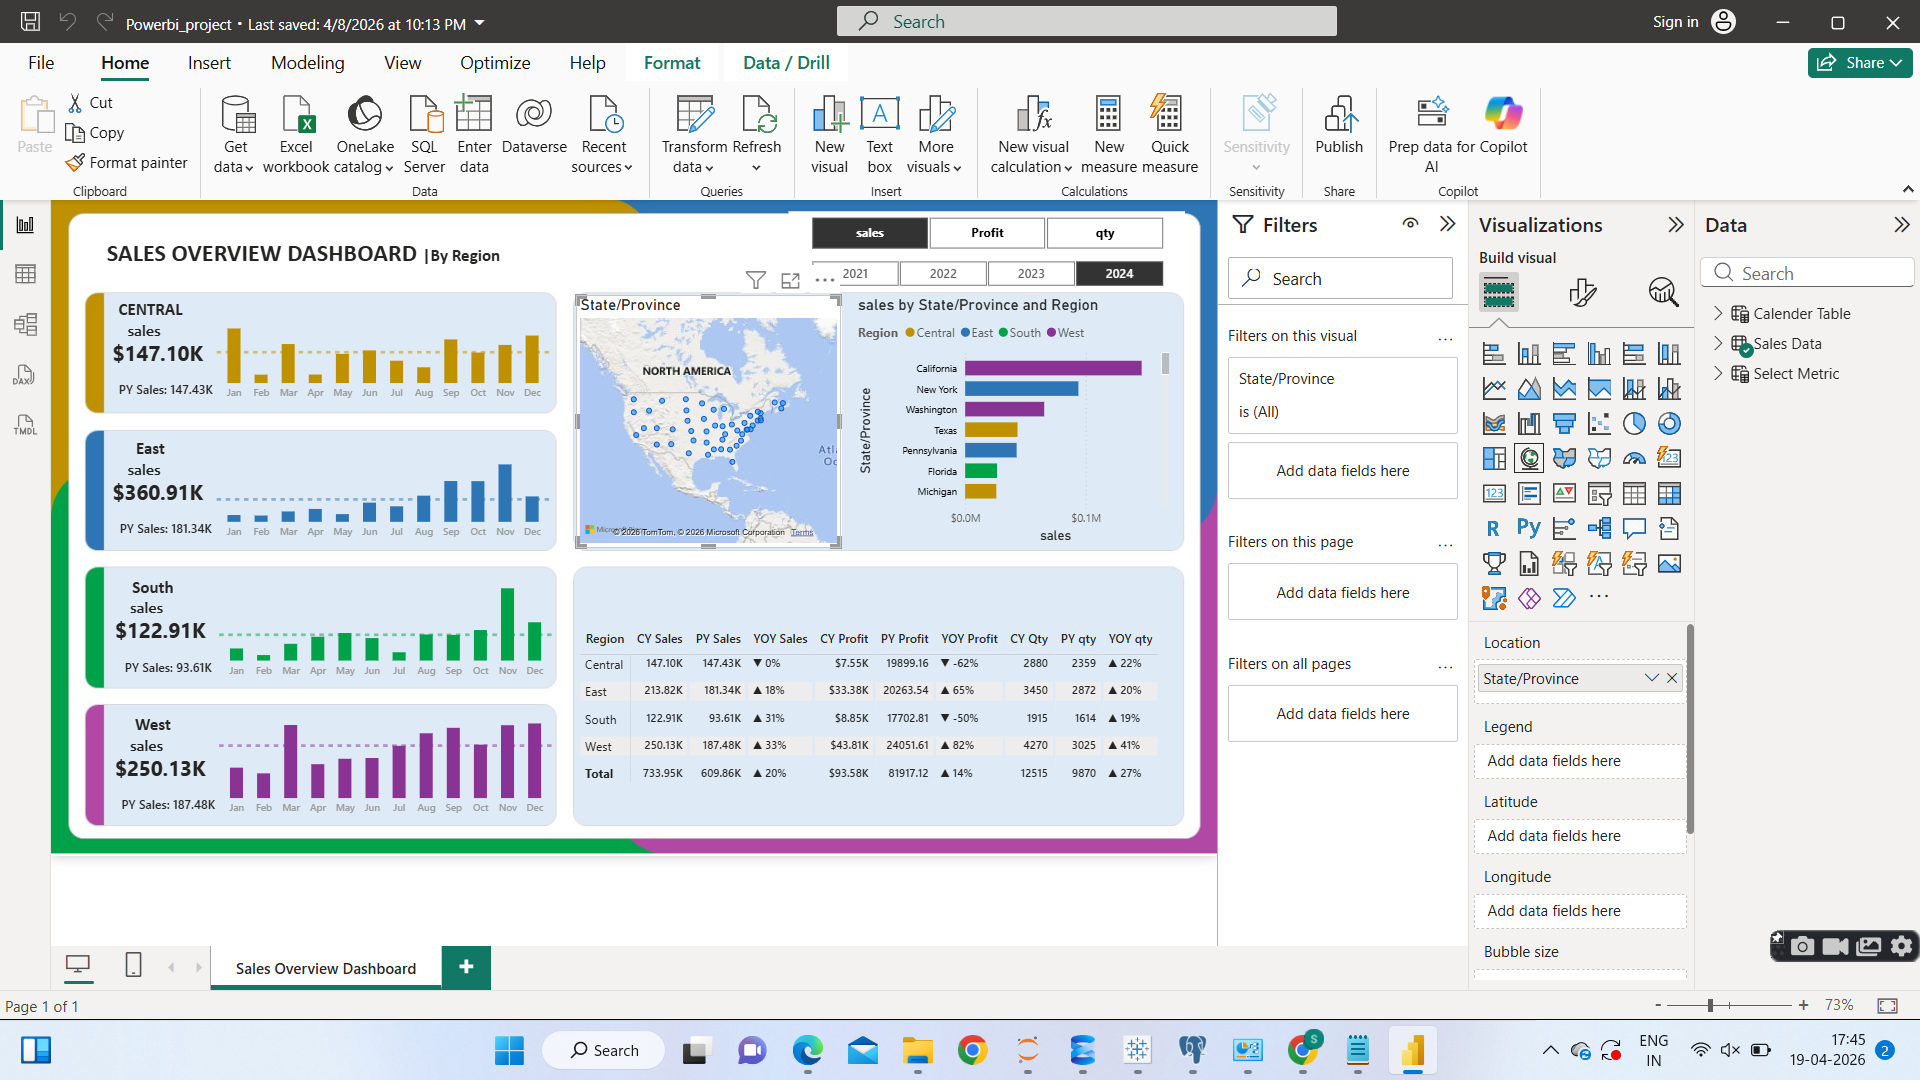

The page's visual inventory and layout, read from the dashboard file:
{"tool":"powerbi","page":{"name":"Sales Overview Dashboard","canvas":[1280,720],"ordinal":0},"visuals":[{"type":"slicer","fields":{"Values":["Select Metric.Select Metric"]},"box":[809.6,12.3,435,48],"z":0},{"type":"slicer","fields":{"Values":["Calender Table.Year"]},"box":[809.6,60.4,435,39.8],"z":1000},{"type":"card","fields":{"Values":["Sales Data.Total sales"]},"box":[57.6,146.8,119.4,45.3],"z":1000,"group":"g1"},{"type":"card","fields":{"Values":["Sales Data.Total sales"]},"box":[57.6,299.1,119.4,45.3],"z":1000,"group":"g5"},{"type":"card","fields":{"Values":["Sales Data.Total sales"]},"box":[60.4,451.4,119.4,45.3],"z":1000,"group":"g6"},{"type":"card","fields":{"Values":["Sales Data.Total sales"]},"box":[60.4,602.4,119.4,45.3],"z":1000,"group":"g4"},{"type":"textbox","box":[38.4,37,481.6,63.1],"z":2000},{"type":"textbox","box":[63.1,104.3,91.9,37],"z":2000,"group":"g1"},{"type":"textbox","box":[63.1,256.6,91.9,37],"z":2000,"group":"g5"},{"type":"textbox","box":[65.9,408.9,91.9,37],"z":2000,"group":"g6"},{"type":"textbox","box":[65.9,559.9,91.9,37],"z":2000,"group":"g4"},{"type":"group","id":"g1","title":"Group 1","box":[57.6,104.3,495.4,124.9],"z":3000},{"type":"card","fields":{"Values":["Sales Data.Dynamic Title"]},"box":[63.1,130.4,78.2,28.8],"z":4000,"group":"g1"},{"type":"group","id":"g2","title":"Group 1","box":[57.6,256.6,495.4,124.9],"z":4000},{"type":"card","fields":{"Values":["Sales Data.Dynamic Title"]},"box":[63.1,282.7,78.2,28.8],"z":4000,"group":"g5"},{"type":"card","fields":{"Values":["Sales Data.Dynamic Title"]},"box":[65.9,435,78.2,28.8],"z":4000,"group":"g6"},{"type":"card","fields":{"Values":["Sales Data.Dynamic Title"]},"box":[65.9,586,78.2,28.8],"z":4000,"group":"g4"},{"type":"card","fields":{"Values":["Sales Data.PY KPI Sales"]},"box":[63.1,192.1,126.2,37],"z":5000,"group":"g1"},{"type":"card","fields":{"Values":["Sales Data.PY KPI Sales"]},"box":[63.1,344.4,126.2,37],"z":5000,"group":"g5"},{"type":"group","id":"g3","title":"Group 2","box":[60.4,408.9,495.4,124.9],"z":5000},{"type":"card","fields":{"Values":["Sales Data.PY KPI Sales"]},"box":[65.9,496.7,126.2,37],"z":5000,"group":"g6"},{"type":"card","fields":{"Values":["Sales Data.PY KPI Sales"]},"box":[65.9,647.7,126.2,37],"z":5000,"group":"g4"},{"type":"clusteredColumnChart","fields":{"Y":["Sales Data.Total sales"],"Category":["Calender Table.Month"]},"box":[177,104.3,376,124.9],"z":6000,"group":"g1"},{"type":"clusteredColumnChart","fields":{"Y":["Sales Data.Total sales"],"Category":["Calender Table.Month"]},"box":[177,256.6,376,124.9],"z":6000,"group":"g5"},{"type":"clusteredColumnChart","fields":{"Y":["Sales Data.Total sales"],"Category":["Calender Table.Month"]},"box":[179.8,408.9,376,124.9],"z":6000,"group":"g6"},{"type":"group","id":"g4","title":"Group 3","box":[60.4,559.9,495.4,124.9],"z":6000},{"type":"clusteredColumnChart","fields":{"Y":["Sales Data.Total sales"],"Category":["Calender Table.Month"]},"box":[179.8,559.9,376,124.9],"z":6000,"group":"g4"},{"type":"map","fields":{"Category":["Sales Data.State/Province"]},"box":[576.3,104.3,290.9,277.2],"z":7000},{"type":"group","id":"g5","title":"Group 2","box":[57.6,256.6,495.4,124.9],"z":7003,"group":"g2"},{"type":"group","id":"g6","title":"Group 3","box":[60.4,408.9,495.4,124.9],"z":7004,"group":"g3"},{"type":"barChart","fields":{"Y":["Sales Data.Total sales"],"Category":["Sales Data.State/Province"],"Series":["Sales Data.Region"]},"box":[881,104.3,351.3,277.2],"z":8000},{"type":"pivotTable","fields":{"Rows":["Sales Data.Region"],"Values":["Sales Data.CY Sales","Sales Data.PY Sales","Sales Data.YOY Sales","Sales Data.CY Profit","Sales Data.PY Profit","Sales Data.YOY Profit","Sales Data.CY Qty","Sales Data.PY qty","Sales Data.YOY qty"]},"box":[576.3,465.2,668.3,219.6],"z":9000}]}

Visuals, with their boxes on the page's 1280x720 design canvas (x1, y1, x2, y2). These are canvas units, not pixel positions in the 1920x1080 screenshot, which may show the page scaled, cropped or inside an application window:
slicer - Select Metric.Select Metric: (left=810, top=12, right=1245, bottom=60)
slicer - Calender Table.Year: (left=810, top=60, right=1245, bottom=100)
card - Sales Data.Total sales: (left=58, top=147, right=177, bottom=192)
card - Sales Data.Total sales: (left=58, top=299, right=177, bottom=344)
card - Sales Data.Total sales: (left=60, top=451, right=180, bottom=497)
card - Sales Data.Total sales: (left=60, top=602, right=180, bottom=648)
textbox: (left=38, top=37, right=520, bottom=100)
textbox: (left=63, top=104, right=155, bottom=141)
textbox: (left=63, top=257, right=155, bottom=294)
textbox: (left=66, top=409, right=158, bottom=446)
textbox: (left=66, top=560, right=158, bottom=597)
"Group 1" group: (left=58, top=104, right=553, bottom=229)
card - Sales Data.Dynamic Title: (left=63, top=130, right=141, bottom=159)
"Group 1" group: (left=58, top=257, right=553, bottom=382)
card - Sales Data.Dynamic Title: (left=63, top=283, right=141, bottom=312)
card - Sales Data.Dynamic Title: (left=66, top=435, right=144, bottom=464)
card - Sales Data.Dynamic Title: (left=66, top=586, right=144, bottom=615)
card - Sales Data.PY KPI Sales: (left=63, top=192, right=189, bottom=229)
card - Sales Data.PY KPI Sales: (left=63, top=344, right=189, bottom=381)
"Group 2" group: (left=60, top=409, right=556, bottom=534)
card - Sales Data.PY KPI Sales: (left=66, top=497, right=192, bottom=534)
card - Sales Data.PY KPI Sales: (left=66, top=648, right=192, bottom=685)
clusteredColumnChart - Sales Data.Total sales x Calender Table.Month: (left=177, top=104, right=553, bottom=229)
clusteredColumnChart - Sales Data.Total sales x Calender Table.Month: (left=177, top=257, right=553, bottom=382)
clusteredColumnChart - Sales Data.Total sales x Calender Table.Month: (left=180, top=409, right=556, bottom=534)
"Group 3" group: (left=60, top=560, right=556, bottom=685)
clusteredColumnChart - Sales Data.Total sales x Calender Table.Month: (left=180, top=560, right=556, bottom=685)
map - Sales Data.State/Province: (left=576, top=104, right=867, bottom=382)
"Group 2" group: (left=58, top=257, right=553, bottom=382)
"Group 3" group: (left=60, top=409, right=556, bottom=534)
barChart - Sales Data.Total sales x Sales Data.State/Province: (left=881, top=104, right=1232, bottom=382)
pivotTable - Sales Data.Region x Sales Data.CY Sales: (left=576, top=465, right=1245, bottom=685)
